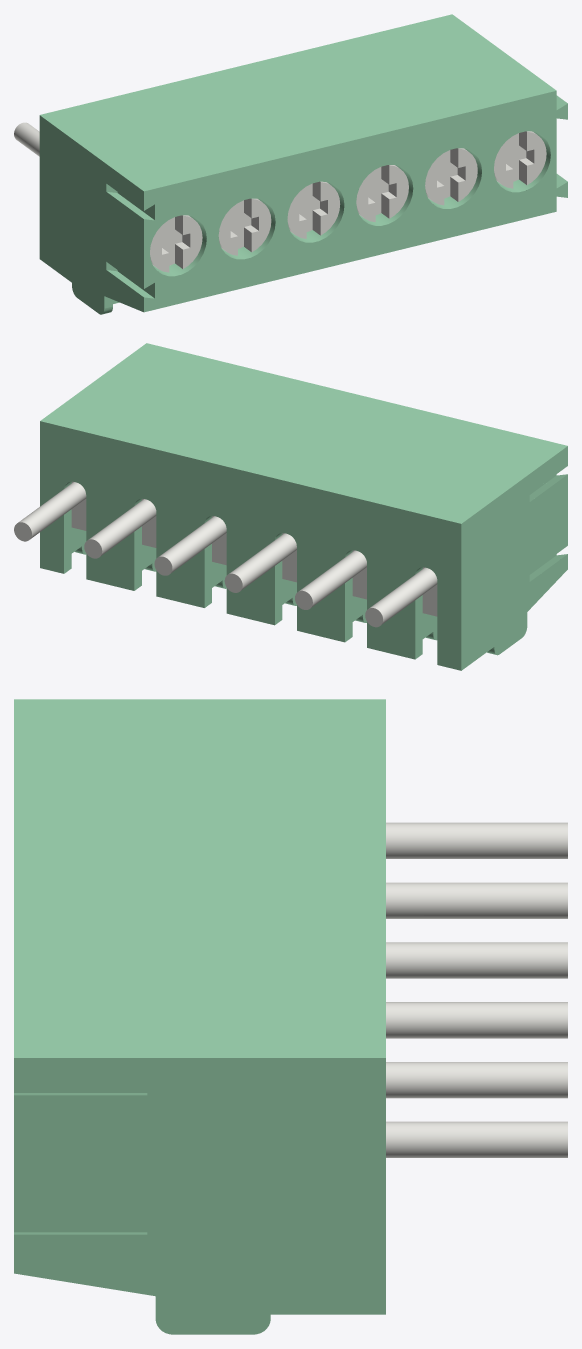
File: TerminalBlock_Phoenix_PT-1,5-6-3.5-H_1x06_P3.50mm_Horizontal.glb
The picture shows the model from 3 angles, top to bottom: view 1: azimuth 30°, elevation 25°; view 2: azimuth 150°, elevation 25°; view 3: azimuth 270°, elevation 25°; orthographic projection. The views are drawn at different scales.
Parts seen in each view (by area): view 1: Shape_IndexedFaceSet.002, Shape_IndexedFaceSet.041, Shape_IndexedFaceSet.001, Shape_IndexedFaceSet.238, Shape_IndexedFaceSet.259, Shape_IndexedFaceSet.252, Shape_IndexedFaceSet.266, Shape_IndexedFaceSet.273, Shape_IndexedFaceSet.245, Shape_IndexedFaceSet.249, Shape_IndexedFaceSet.277, Shape_IndexedFaceSet.263 (+16 smaller); view 2: Shape_IndexedFaceSet.002, Shape_IndexedFaceSet, Shape_IndexedFaceSet.001, Shape_IndexedFaceSet.147, Shape_IndexedFaceSet.142, Shape_IndexedFaceSet.122, Shape_IndexedFaceSet.132, Shape_IndexedFaceSet.127, Shape_IndexedFaceSet.137, Shape_IndexedFaceSet.005, Shape_IndexedFaceSet.011, Shape_IndexedFaceSet.035 (+5 smaller); view 3: Shape_IndexedFaceSet.002, Shape_IndexedFaceSet.003, Shape_IndexedFaceSet.122, Shape_IndexedFaceSet.127, Shape_IndexedFaceSet.132, Shape_IndexedFaceSet.137, Shape_IndexedFaceSet.142, Shape_IndexedFaceSet.147, Shape_IndexedFaceSet.101, Shape_IndexedFaceSet.102.
Boxes of the visible parts, <box> form: Shape_IndexedFaceSet.002: <box>40,14,556,191</box>; Shape_IndexedFaceSet.041: <box>144,91,567,312</box>; Shape_IndexedFaceSet.001: <box>39,115,143,314</box>; Shape_IndexedFaceSet.238: <box>251,199,271,251</box>; Shape_IndexedFaceSet.259: <box>389,165,408,218</box>; Shape_IndexedFaceSet.252: <box>320,182,340,235</box>; Shape_IndexedFaceSet.266: <box>458,148,477,201</box>; Shape_IndexedFaceSet.273: <box>527,131,546,184</box>; Shape_IndexedFaceSet.245: <box>183,215,202,268</box>; Shape_IndexedFaceSet.249: <box>150,220,169,272</box>; Shape_IndexedFaceSet.277: <box>494,136,513,188</box>; Shape_IndexedFaceSet.263: <box>356,169,375,222</box>; Shape_IndexedFaceSet.002: <box>40,343,567,523</box>; Shape_IndexedFaceSet: <box>40,421,461,670</box>; Shape_IndexedFaceSet.001: <box>461,446,567,670</box>; Shape_IndexedFaceSet.147: <box>369,567,437,624</box>; Shape_IndexedFaceSet.142: <box>299,550,366,607</box>; Shape_IndexedFaceSet.122: <box>18,482,86,539</box>; Shape_IndexedFaceSet.132: <box>159,516,226,573</box>; Shape_IndexedFaceSet.127: <box>88,499,156,556</box>; Shape_IndexedFaceSet.137: <box>229,533,296,590</box>; Shape_IndexedFaceSet.005: <box>64,509,71,573</box>; Shape_IndexedFaceSet.011: <box>134,526,141,590</box>; Shape_IndexedFaceSet.035: <box>415,595,422,659</box>; Shape_IndexedFaceSet.002: <box>14,699,385,1057</box>; Shape_IndexedFaceSet.003: <box>14,1058,385,1334</box>; Shape_IndexedFaceSet.122: <box>386,1121,567,1157</box>; Shape_IndexedFaceSet.127: <box>386,1062,567,1098</box>; Shape_IndexedFaceSet.132: <box>386,1002,567,1038</box>; Shape_IndexedFaceSet.137: <box>386,942,567,978</box>; Shape_IndexedFaceSet.142: <box>386,882,567,918</box>; Shape_IndexedFaceSet.147: <box>386,822,567,858</box>; Shape_IndexedFaceSet.101: <box>14,1234,147,1263</box>; Shape_IndexedFaceSet.102: <box>14,1095,147,1124</box>.
Size of the model in its own units: 8.49 by 2.97 by 5.39.
